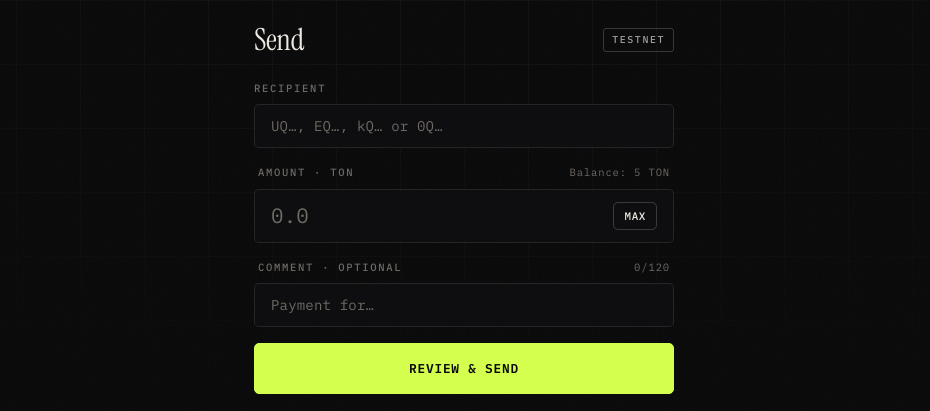
it: Send page — Max button and fee reserve › fills the balance minus the fee reserve
Click the button "Max": [635, 216] box [614,202,657,230]
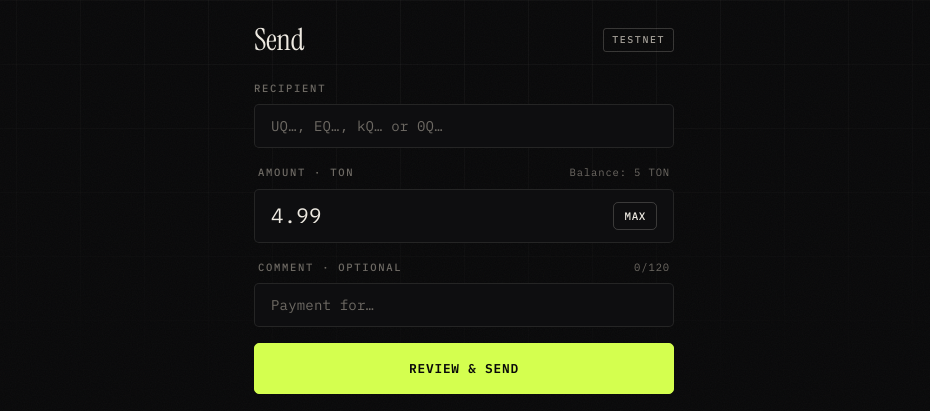
Expected: the field with placeholder "0.0" holds "4.99", [271,202,606,229]
